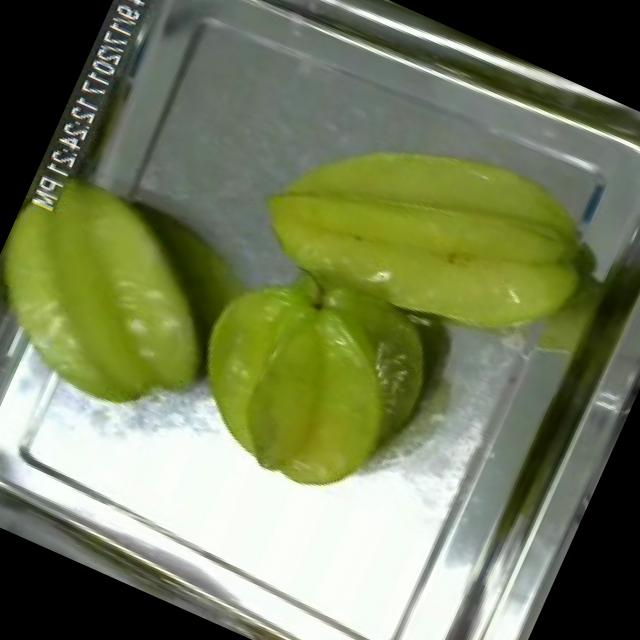fruit: (230, 63, 634, 394), (151, 232, 459, 528), (0, 146, 264, 442)
